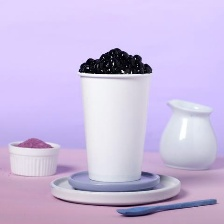paper_cup: (72, 67, 156, 184)
